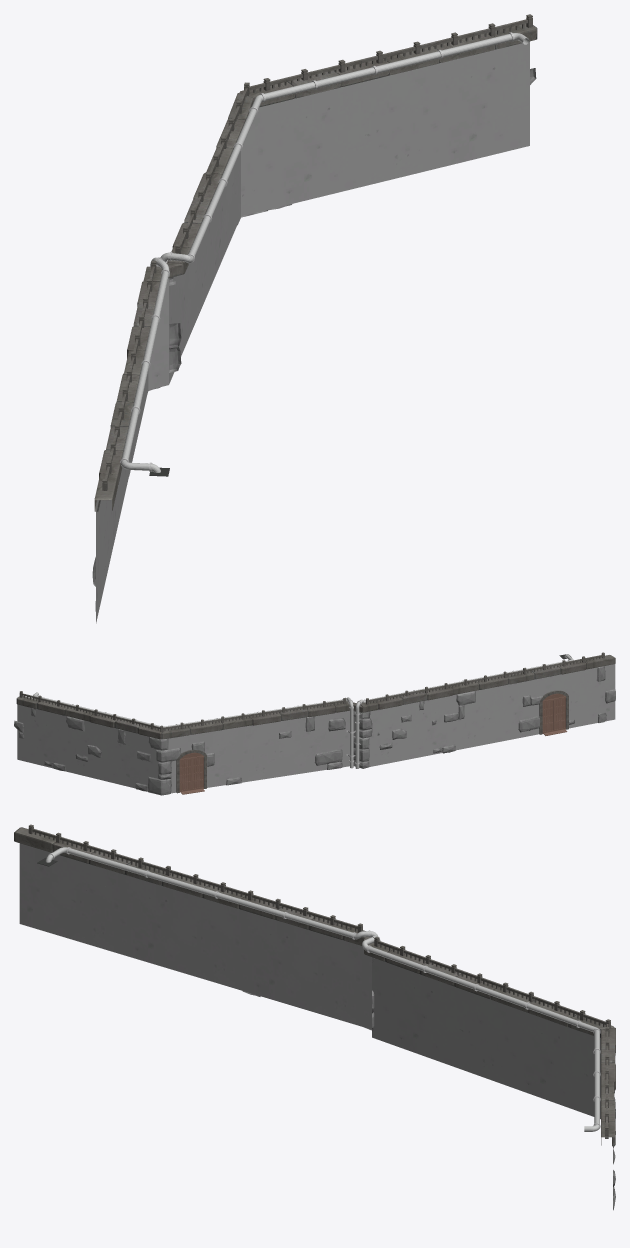
File: SM_ENV_KNVLLG_Wall_10.fbx
3 views of the same model, one above another, from view 1: azimuth 30°, elevation 25°; view 2: azimuth 150°, elevation 25°; view 3: azimuth 270°, elevation 25° (orthographic). The views are drawn at different scales.
Visible parts, largest first — view 1: SM_ENV_KNVLLG_Wall_10.mo; view 2: SM_ENV_KNVLLG_Wall_10.mo; view 3: SM_ENV_KNVLLG_Wall_10.mo.
Boxes of the visible parts, bbox=[...] form: SM_ENV_KNVLLG_Wall_10.mo: bbox=[92, 14, 537, 623]; SM_ENV_KNVLLG_Wall_10.mo: bbox=[14, 652, 615, 795]; SM_ENV_KNVLLG_Wall_10.mo: bbox=[14, 824, 615, 1210].
Bounding box in the file's own units: 8156 × 1288 × 6630.
